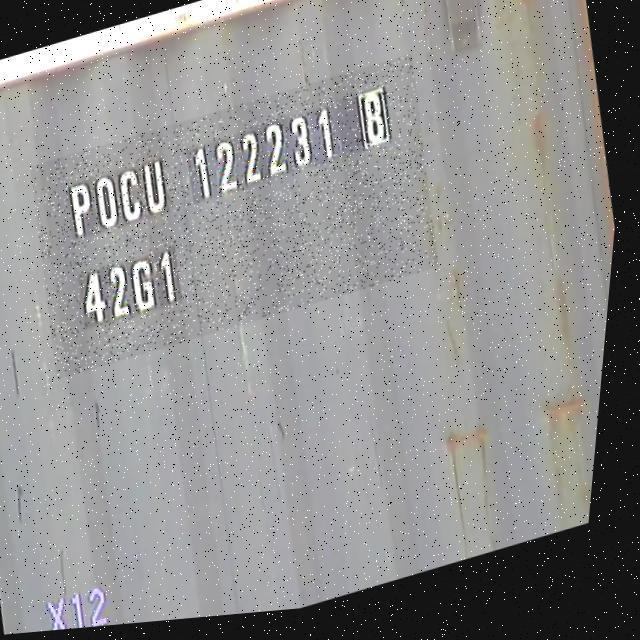container_number_h: (18, 58, 460, 384)
